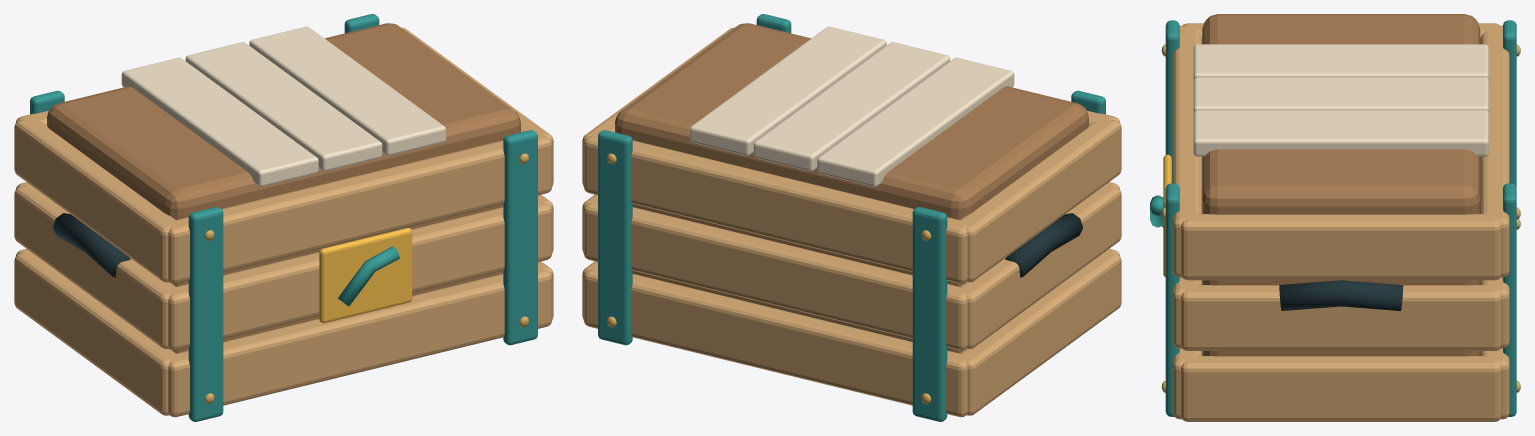
File: crate.glb
3 views of the same model, side by side, from view 1: azimuth 30°, elevation 25°; view 2: azimuth 150°, elevation 25°; view 3: azimuth 270°, elevation 25° (orthographic). The views are drawn at different scales.
Visible parts, largest first — view 1: GEO-crate; view 2: GEO-crate; view 3: GEO-crate.
Boxes of the visible parts, x1=… form: GEO-crate: x1=14, y1=14, x2=553, y2=421; GEO-crate: x1=582, y1=14, x2=1121, y2=421; GEO-crate: x1=1150, y1=14, x2=1520, y2=421.
Bounding box in the file's own units: 0.572 × 0.301 × 0.4267.
